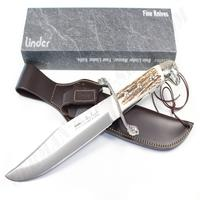knife: (3, 58, 176, 180)
